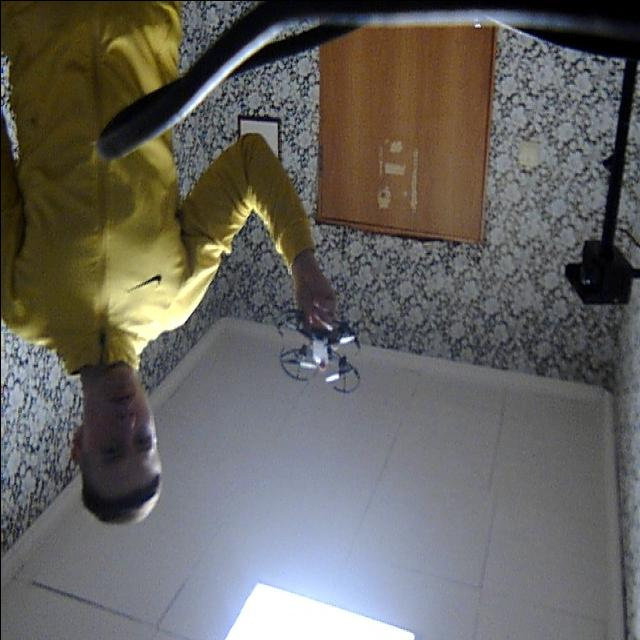drone: (262, 295, 368, 406)
